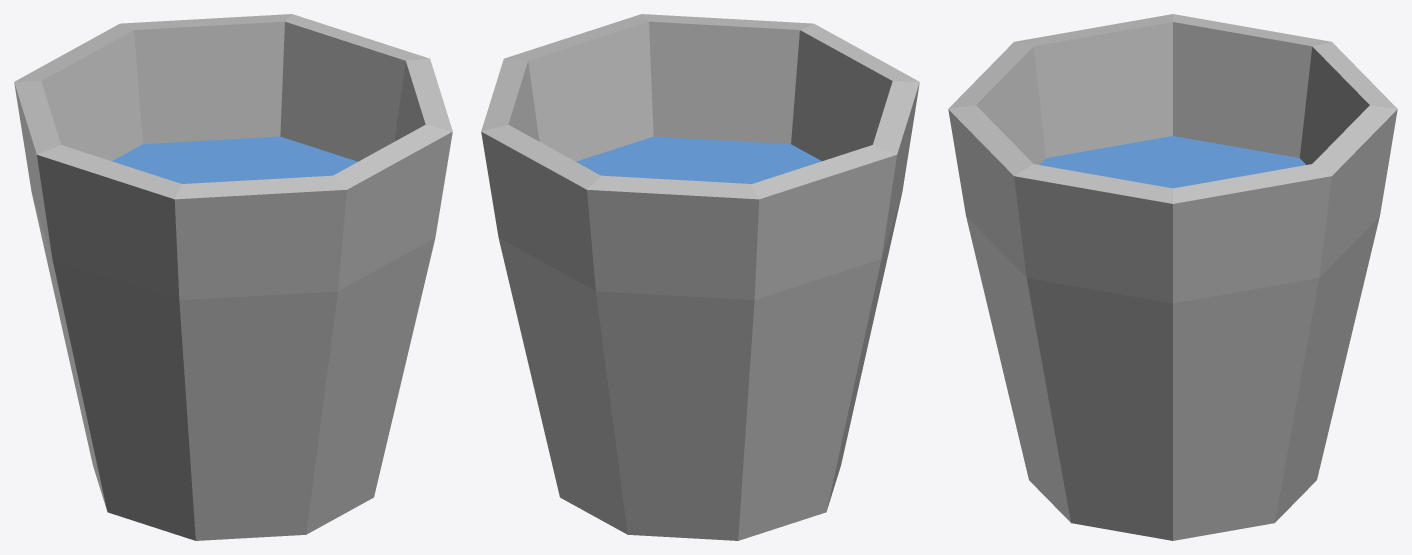
Rendered from bucket_water.glb.
3 renders of one model, left to right at view 1: azimuth 30°, elevation 25°; view 2: azimuth 150°, elevation 25°; view 3: azimuth 270°, elevation 25°, orthographic.
Parts seen in each view (by area): view 1: bucket_water; view 2: bucket_water; view 3: bucket_water.
Part boxes in pixels (left/top/right/bottom): bucket_water: left=14, top=14, right=452, bottom=540; bucket_water: left=481, top=14, right=919, bottom=540; bucket_water: left=948, top=14, right=1397, bottom=540.
Size of the model in its own units: 0.958 by 0.8815 by 0.958.
